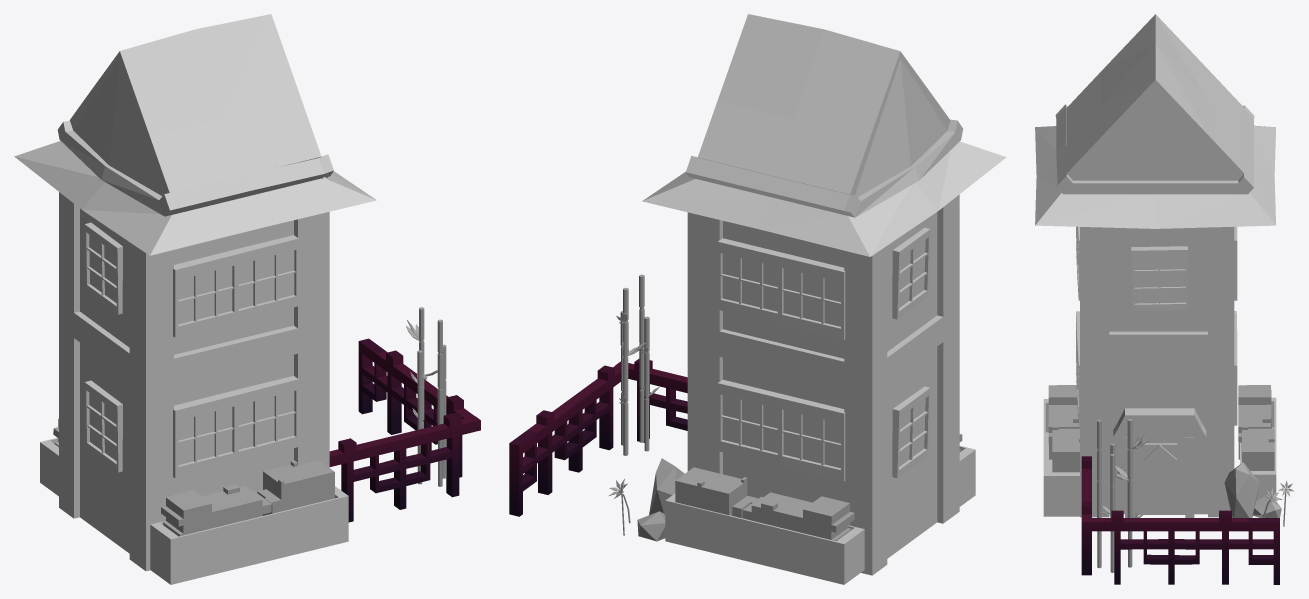
File: CasaB.fbx
3 renders of one model, left to right at view 1: azimuth 30°, elevation 25°; view 2: azimuth 150°, elevation 25°; view 3: azimuth 270°, elevation 25°, orthographic. The views are drawn at different scales.
Visible parts, largest first — view 1: pCube62; view 2: pCube62; view 3: pCube62.
Part boxes in pixels (left/top/right/bottom): pCube62: left=14, top=14, right=480, bottom=584; pCube62: left=509, top=14, right=1006, bottom=584; pCube62: left=1035, top=14, right=1294, bottom=584.
Bounding box in the file's own units: 2.99 × 3.92 × 2.12.
